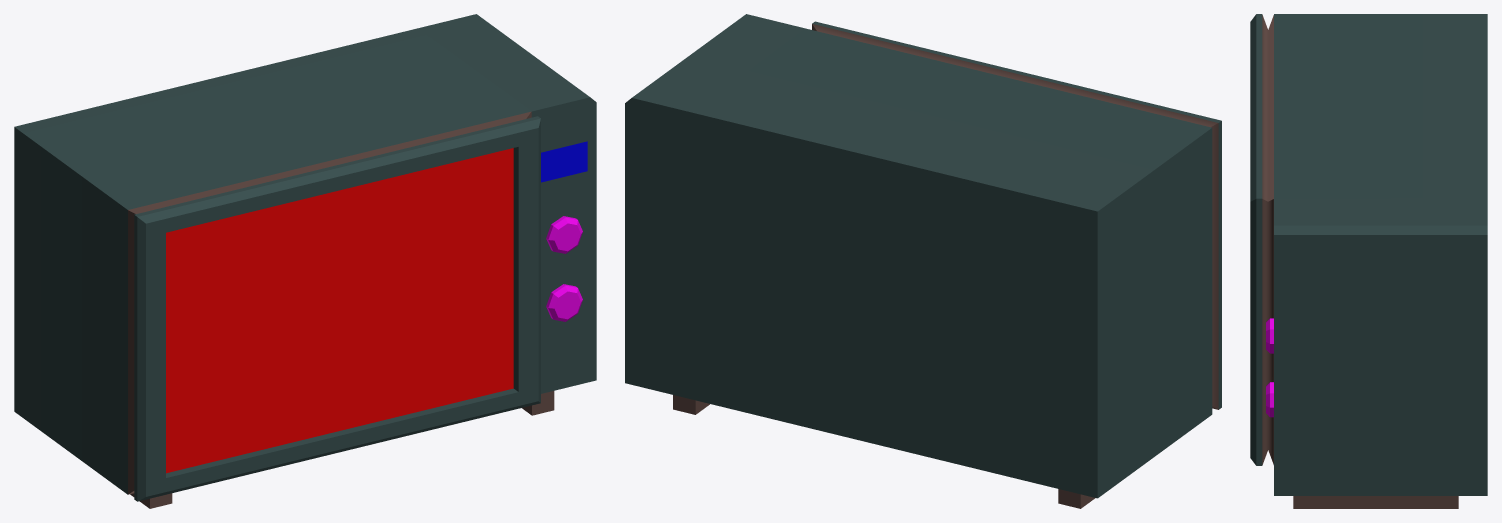
File: Micro.fbx
3 renders of one model, left to right at view 1: azimuth 30°, elevation 25°; view 2: azimuth 150°, elevation 25°; view 3: azimuth 270°, elevation 25°, orthographic. The views are drawn at different scales.
Visible parts, largest first — view 1: Micro; view 2: Micro; view 3: Micro.
Part boxes in pixels (bbox=[...]): Micro: bbox=[14, 14, 596, 508]; Micro: bbox=[625, 14, 1221, 508]; Micro: bbox=[1250, 14, 1487, 508].
Bounding box in the file's own units: 46.94 × 30.07 × 21.91.
